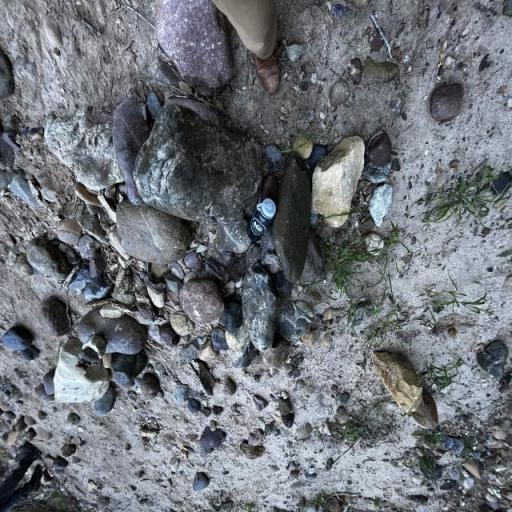bottle: (246, 198, 276, 242)
